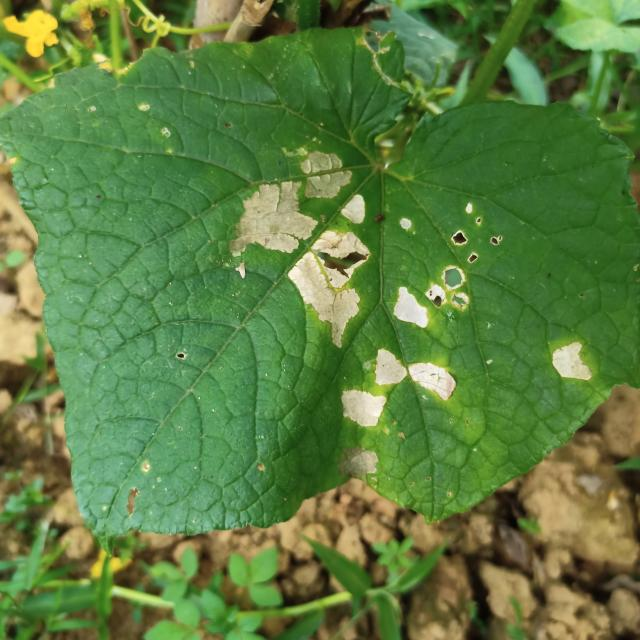disease_cucumber: (231, 138, 375, 352), (391, 194, 504, 337), (330, 349, 462, 432), (545, 339, 600, 393)
